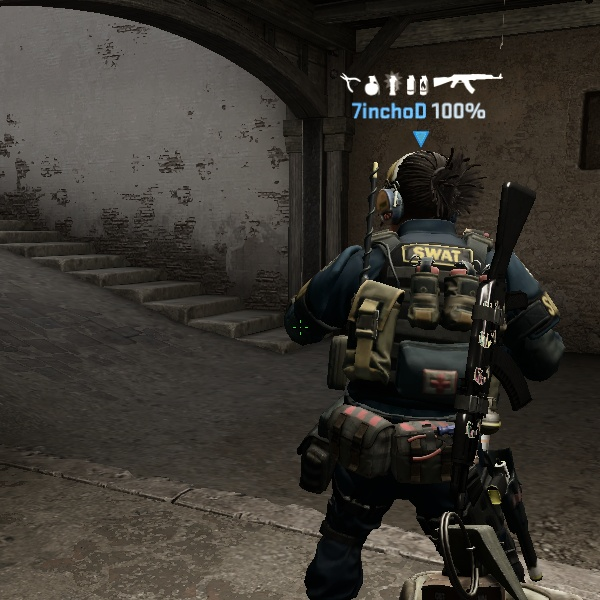ct_body: (220, 128, 582, 600)
ct_head: (349, 139, 480, 240)
